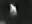person: (10, 4, 19, 18)
